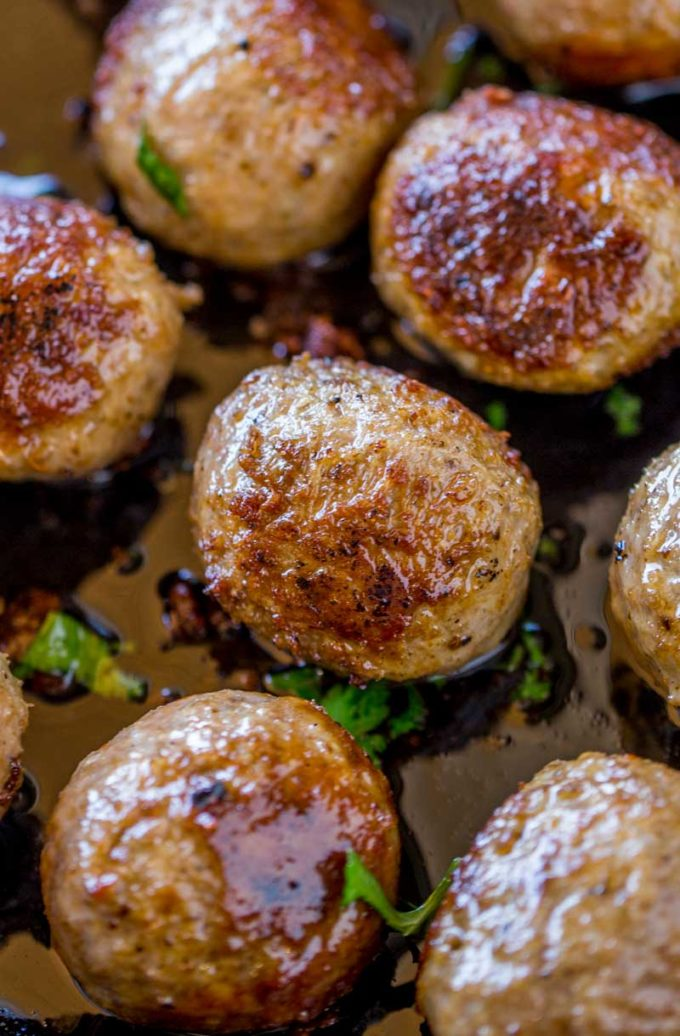meatballs: (145, 14, 621, 321), (198, 352, 531, 627), (72, 698, 374, 990)
